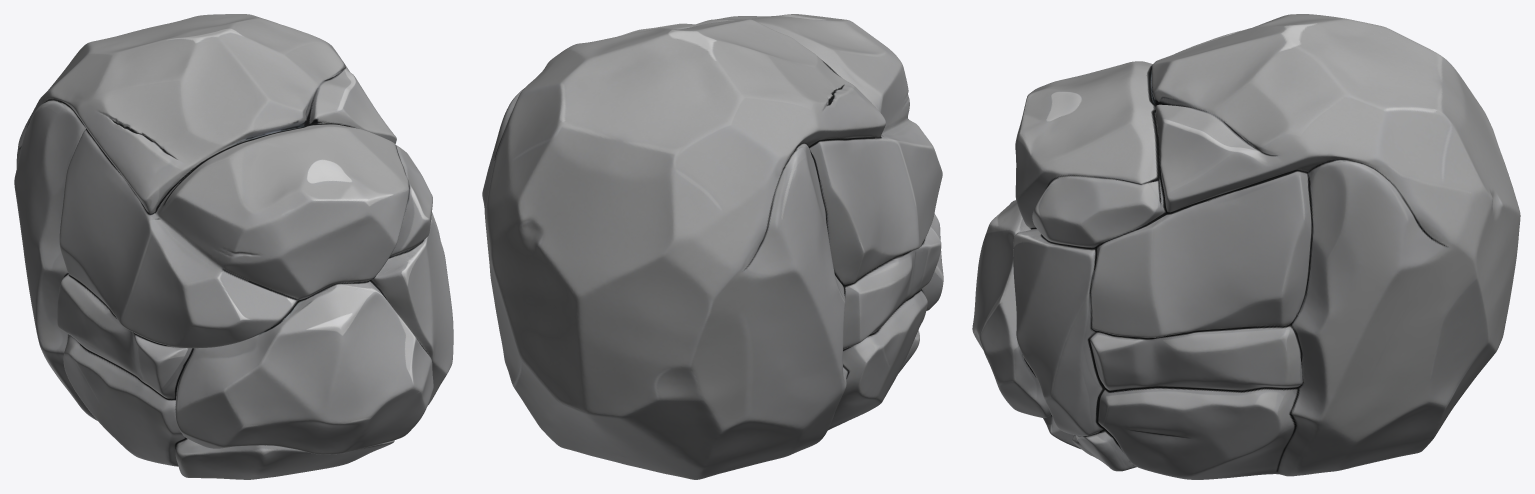
The model's file is Felsen_Entwurf_1.glb.
3 renders of one model, left to right at view 1: azimuth 30°, elevation 25°; view 2: azimuth 150°, elevation 25°; view 3: azimuth 270°, elevation 25°, orthographic. The views are drawn at different scales.
Size of the model in its own units: 1.36 by 1.48 by 1.9.
1 material, 1 textured.
